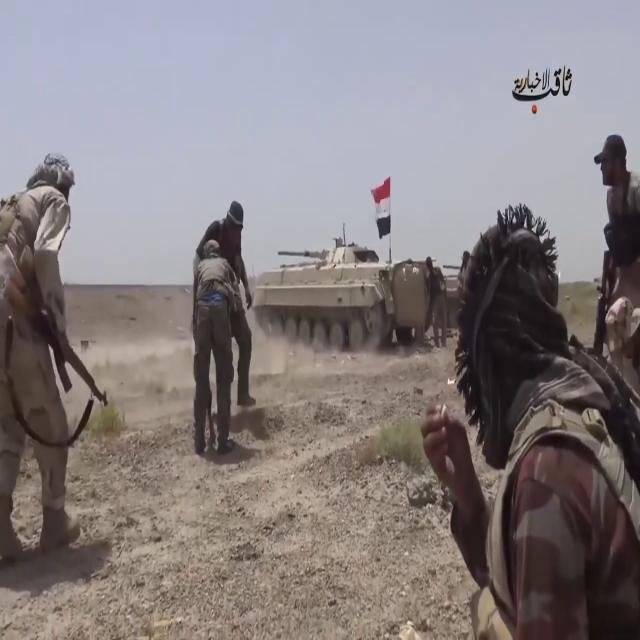long weapon: (0, 269, 116, 410)
